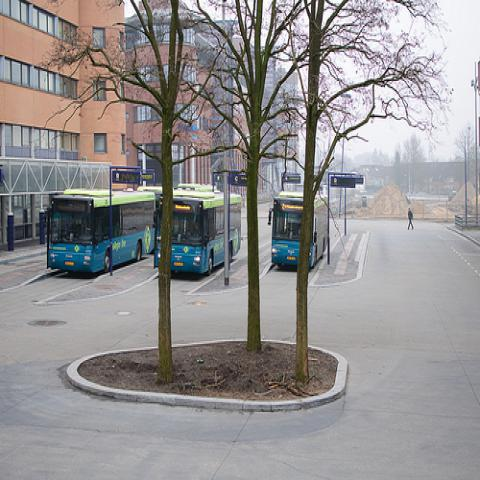bus: (38, 186, 156, 274), (269, 193, 328, 272), (171, 192, 225, 273), (231, 197, 241, 258)
